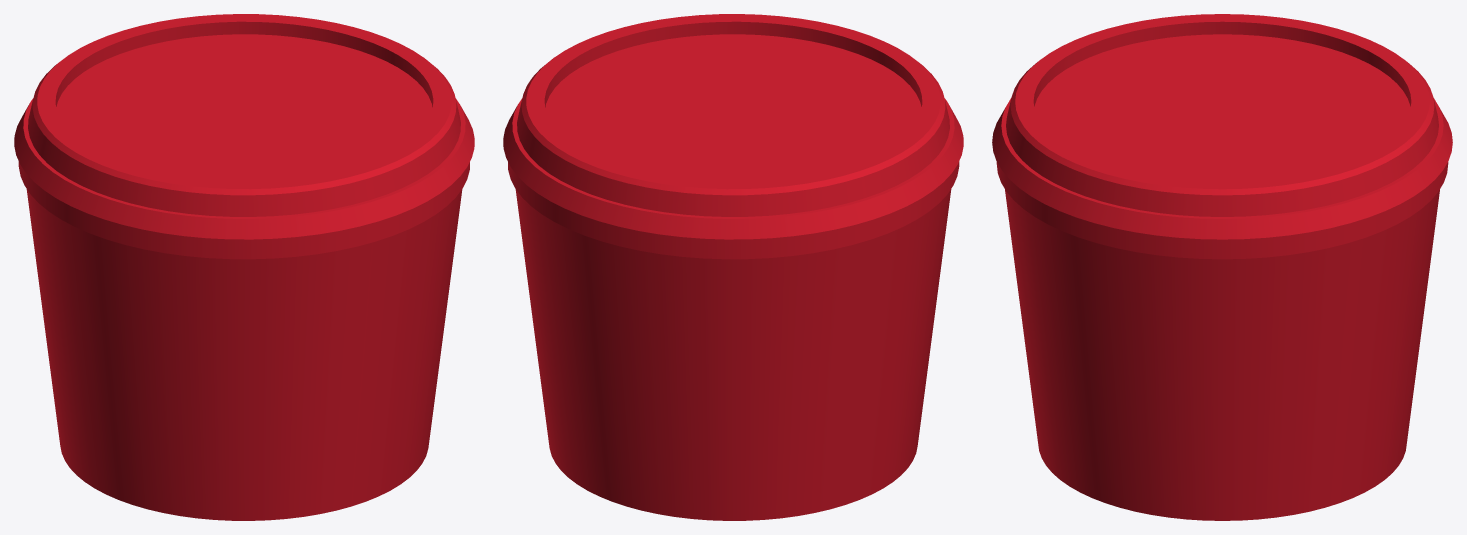
3 renders of one model, left to right at view 1: azimuth 30°, elevation 25°; view 2: azimuth 150°, elevation 25°; view 3: azimuth 270°, elevation 25°, orthographic.
Parts seen in each view (by area): view 1: tapered_tub, stepped_lid; view 2: tapered_tub, stepped_lid; view 3: tapered_tub, stepped_lid.
Boxes of the visible parts, left/top/right/bottom form: tapered_tub: left=26, top=189, right=462, bottom=520; stepped_lid: left=14, top=14, right=474, bottom=259; tapered_tub: left=515, top=189, right=951, bottom=520; stepped_lid: left=503, top=14, right=963, bottom=259; tapered_tub: left=1005, top=190, right=1439, bottom=520; stepped_lid: left=992, top=14, right=1452, bottom=259.
Size of the model in its own units: 0.1 by 0.0818 by 0.1.
